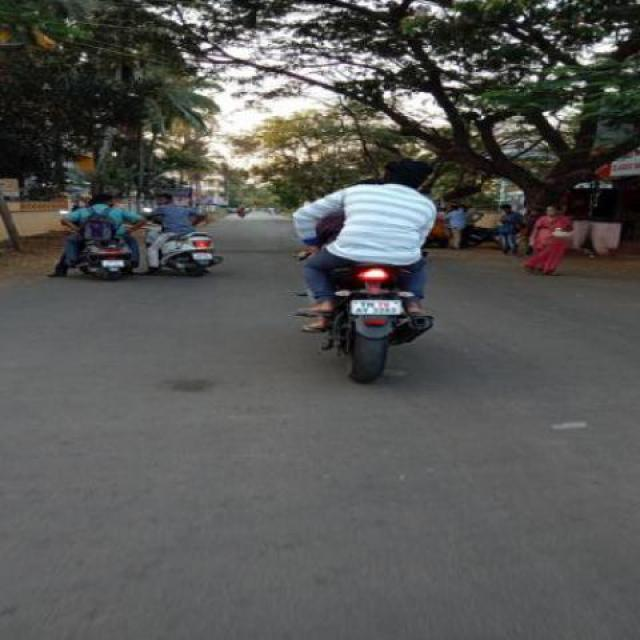Pothole: (158, 370, 221, 396)
Unmarked Bump: (216, 248, 296, 255)
